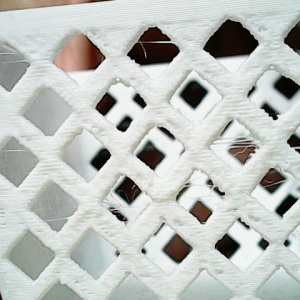3dpstringing: (102, 193, 145, 225), (210, 132, 260, 159), (134, 36, 186, 60), (183, 178, 228, 205), (32, 209, 76, 231), (256, 174, 294, 190), (4, 47, 29, 70), (2, 142, 29, 157), (128, 182, 141, 194), (289, 143, 300, 154)
3dpunderextrusion: (240, 15, 276, 42), (154, 212, 196, 233), (86, 27, 118, 54), (230, 207, 262, 226), (198, 259, 228, 278)
